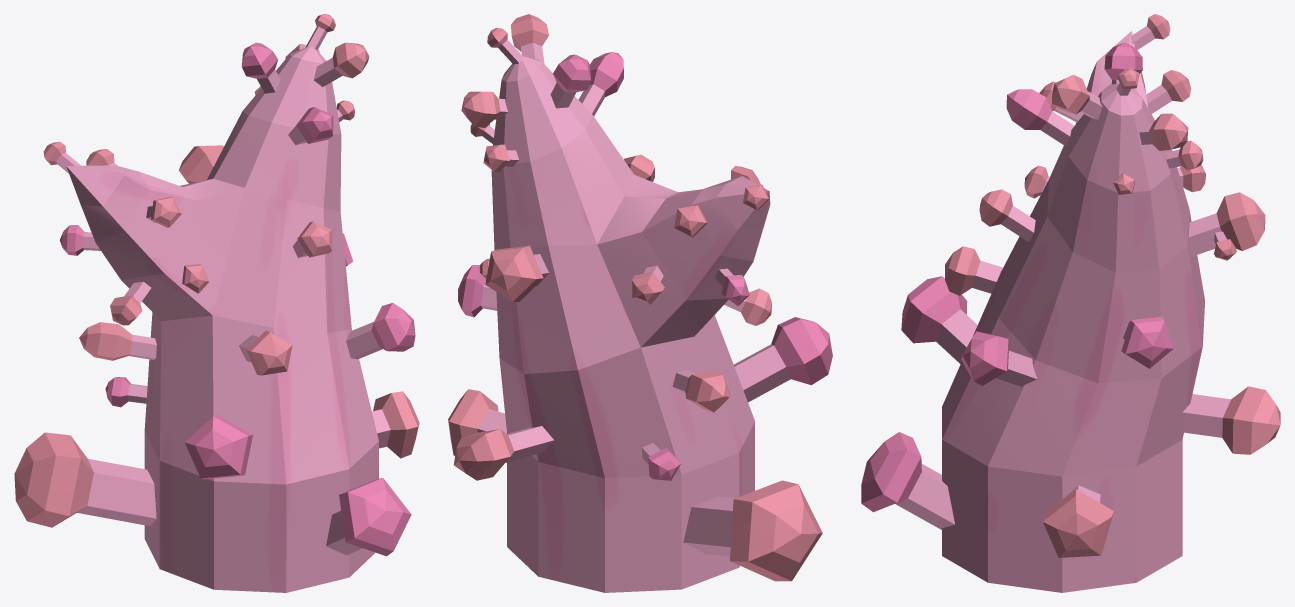
Rendered from rosakorall.fbx.
3 renders of one model, left to right at view 1: azimuth 30°, elevation 25°; view 2: azimuth 150°, elevation 25°; view 3: azimuth 270°, elevation 25°, orthographic. The views are drawn at different scales.
Visible parts, largest first — view 1: pCylinder30; view 2: pCylinder30; view 3: pCylinder30.
Boxes of the visible parts, box(x1,y1,x2,y2) form: pCylinder30: box(14, 14, 419, 592); pCylinder30: box(448, 14, 832, 592); pCylinder30: box(861, 14, 1280, 592).
Bounding box in the file's own units: 3.59 × 4.54 × 3.32.
1 material, 1 textured.
